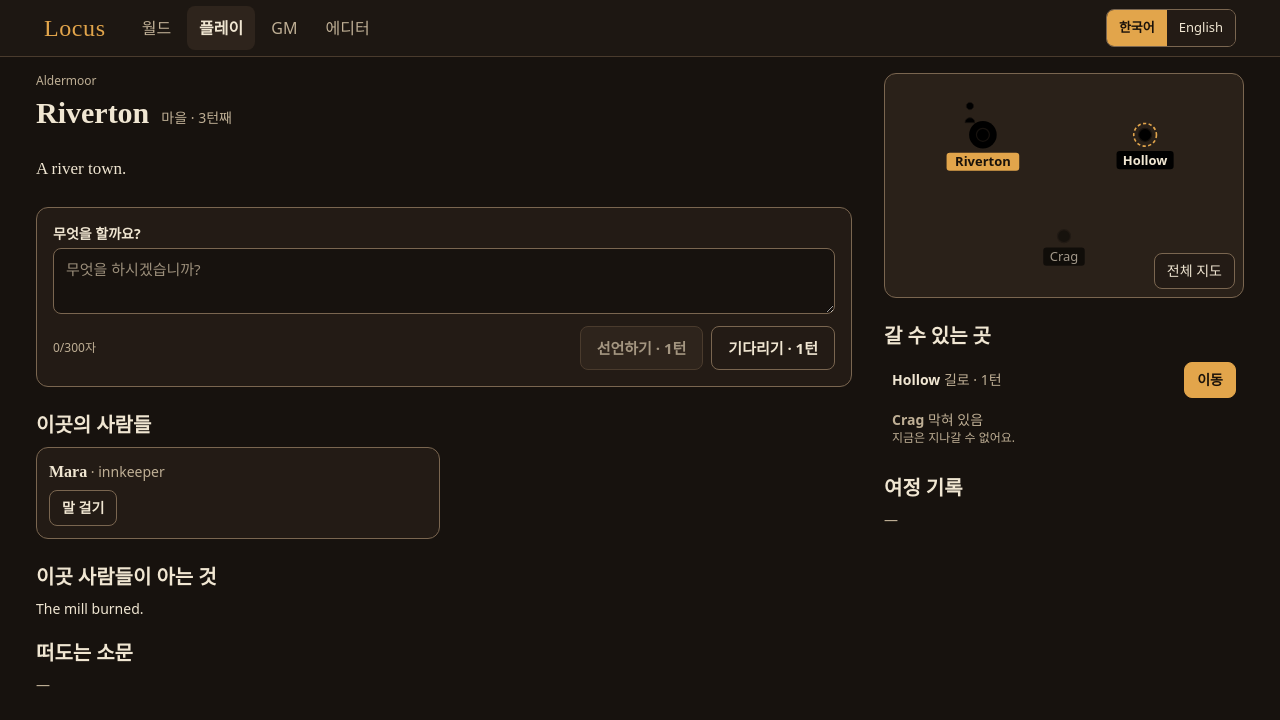
Scenario: code review 01: the talk and focus › #11: the NPC leaving the region closes the talk (wide and narrower)
What coordinates should you click on to do the following:
click the button with test id "npc-n1-talk-btn"
I would click on:
 (83, 508)
Its box is [49,490,117,526].
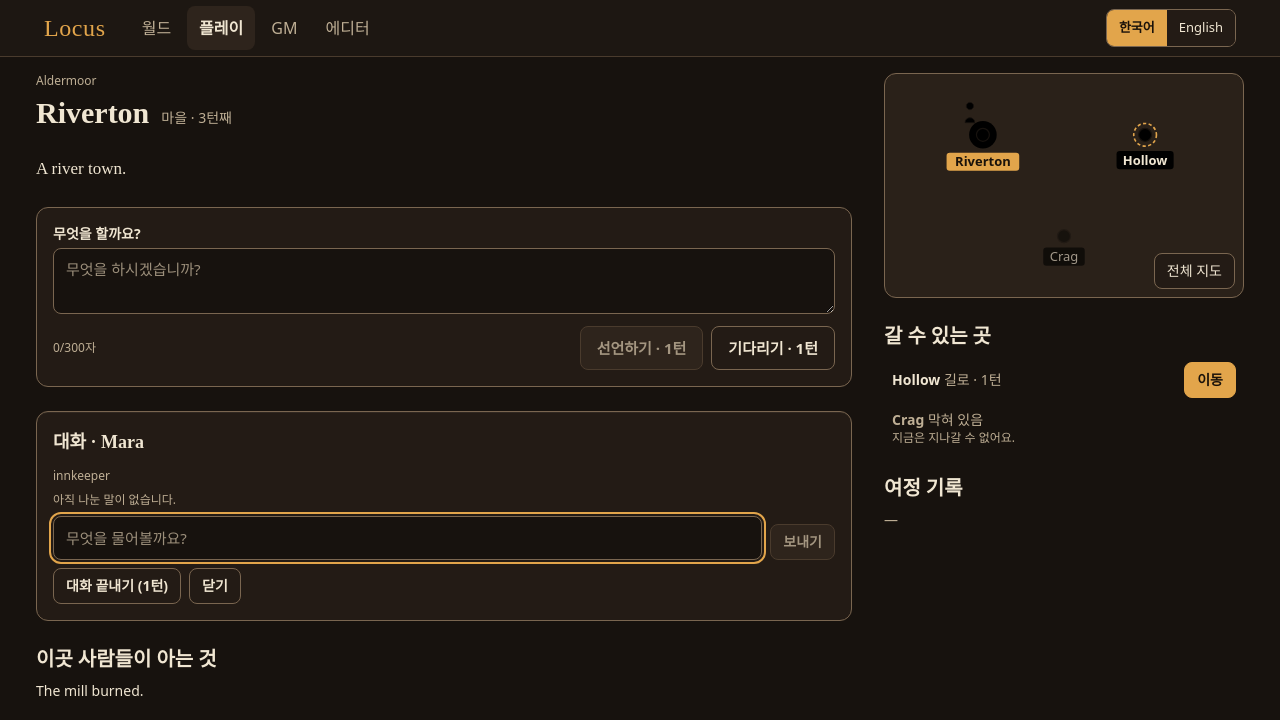
Expected: the element with test id "dialogue-panel" is shown, [36,411,852,621]
What coordinates should you click on to do the following:
click the button with test id "wait-btn"
I would click on:
 (773, 348)
Its box is [711,326,835,370].
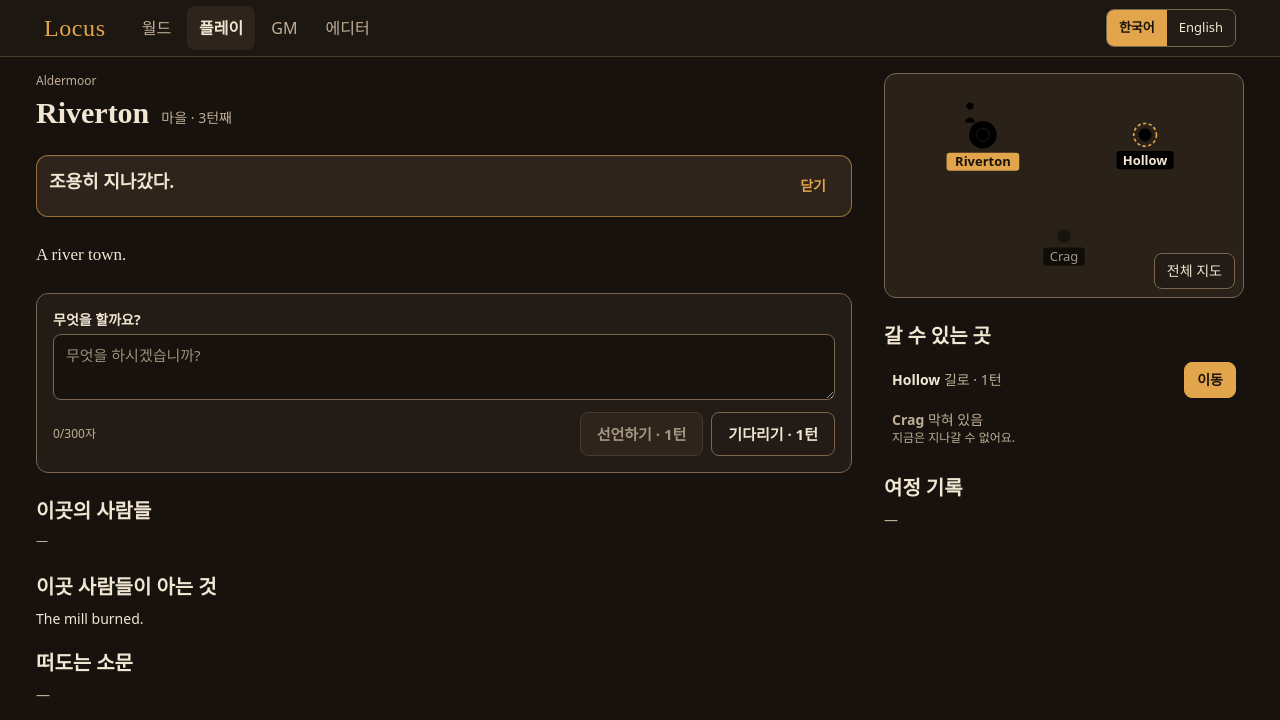
Expected: the element with test id "dialogue-panel" is gone
